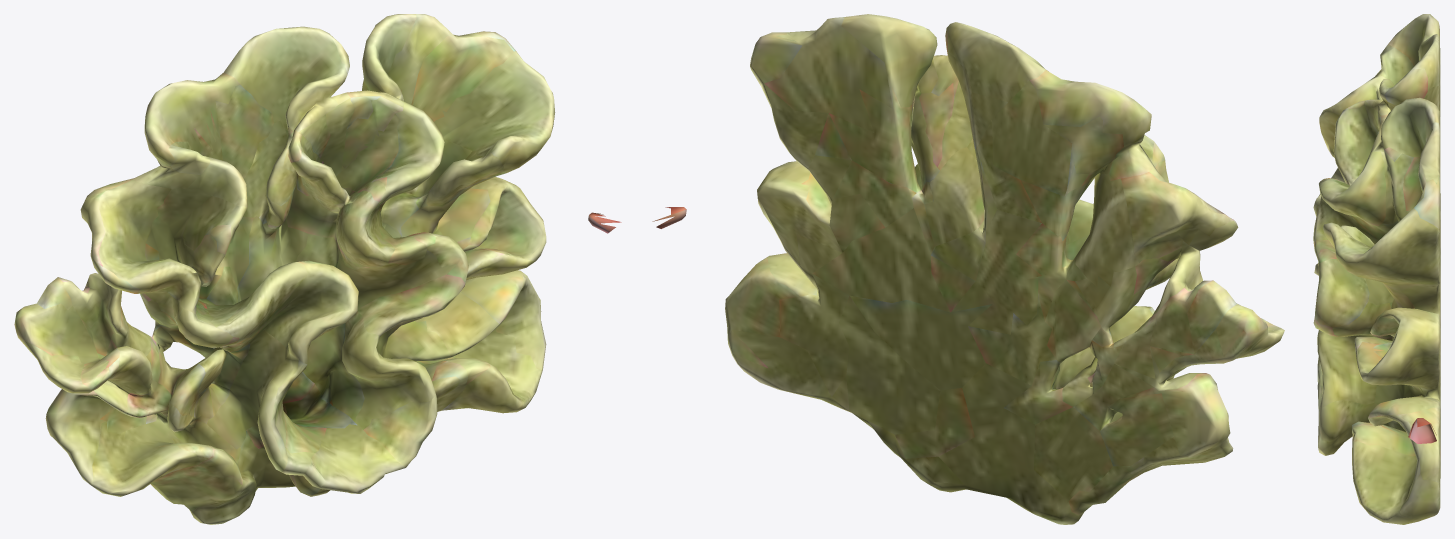
3 renders of one model, left to right at view 1: azimuth 30°, elevation 25°; view 2: azimuth 150°, elevation 25°; view 3: azimuth 270°, elevation 25°, orthographic. The views are drawn at different scales.
Size of the model in its own units: 0.9354 by 0.7103 by 0.1859.
Materials: 1 (1 with a texture image).
